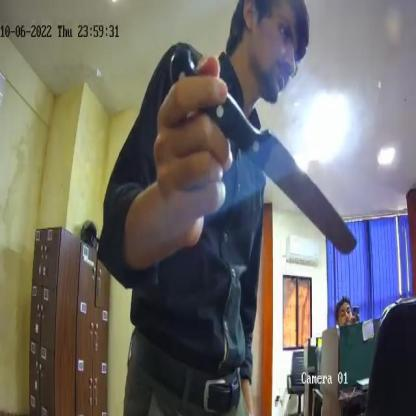Knife: (164, 50, 357, 253)
